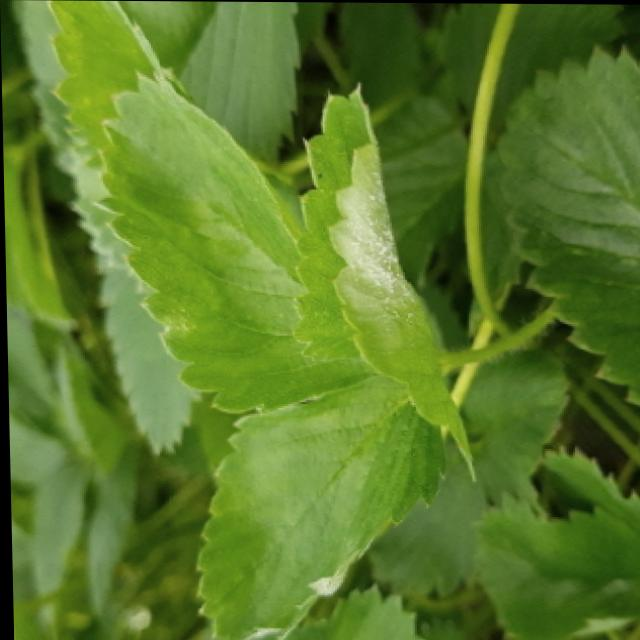Powdery Mildew Leaf: (290, 81, 476, 483), (193, 378, 450, 640)
